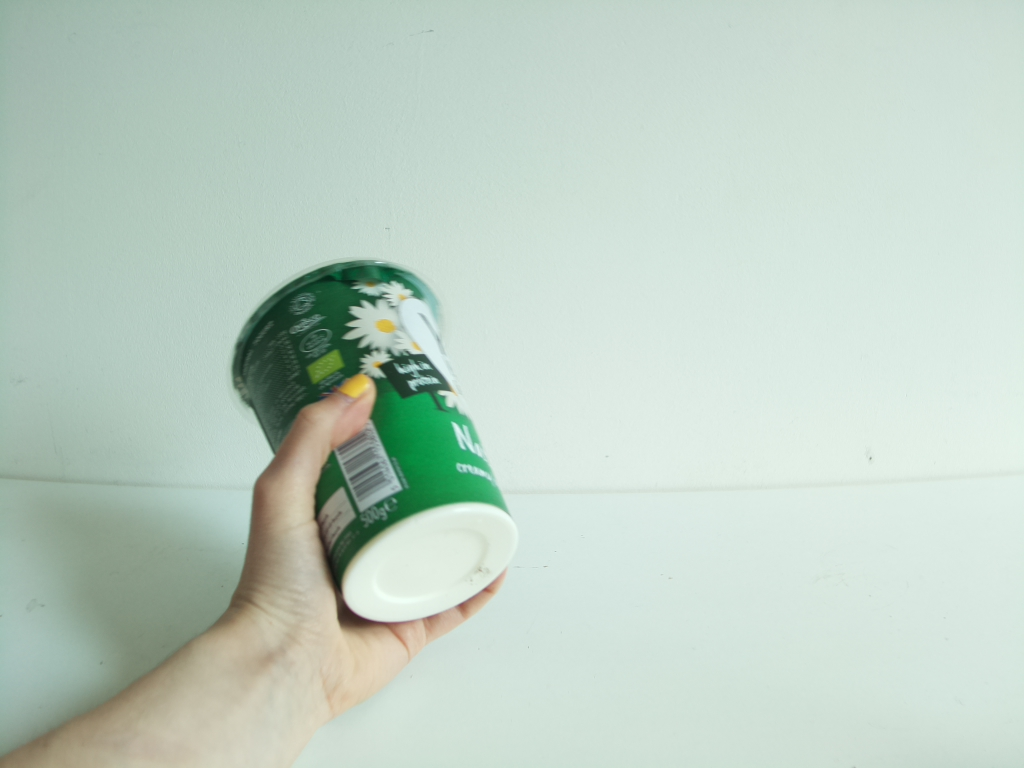yogurt: (224, 249, 529, 628)
